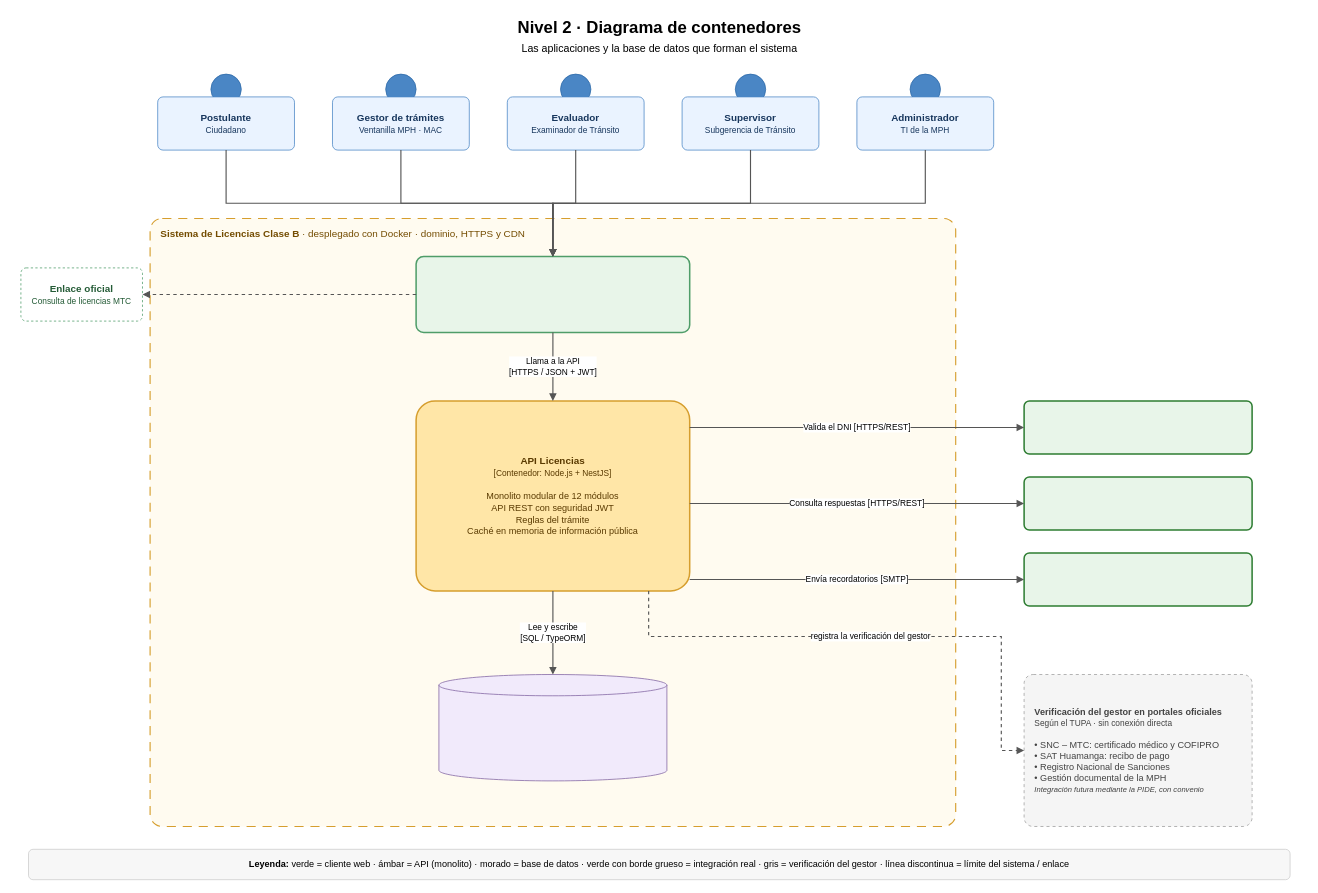
Some shapes in this 1318 by 893 pixel diagram are drawn without their labels. The shapes that lost their labels are listed below. From the top down, each one's centre as x and y in pixels, then its label:
point (552, 294): Portal web [Contenedor: React + TypeScript] Interfaz por rol en el navegador
point (1137, 427): API Perú Consulta de datos del DNI
point (1137, 503): IA de orientación Modelo de lenguaje
point (1137, 579): Correo electrónico Servidor SMTP
point (552, 727): PostgreSQL [Contenedor: base de datos única] Datos del trámite y documentos
